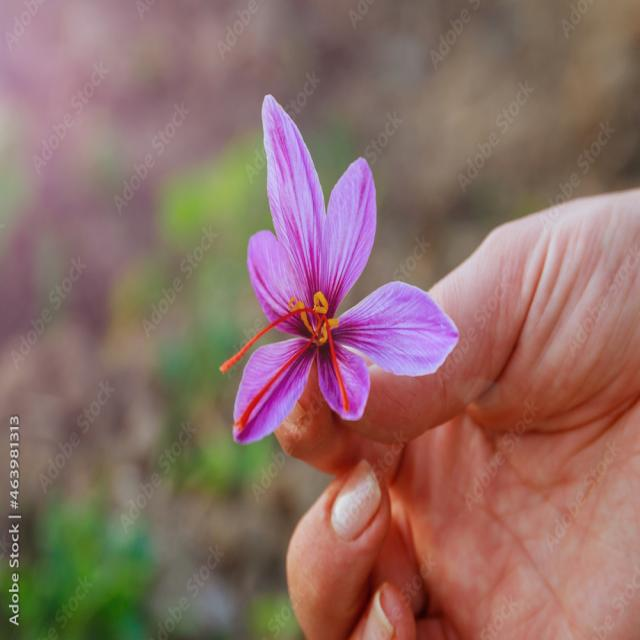saffron open: (220, 95, 460, 447)
